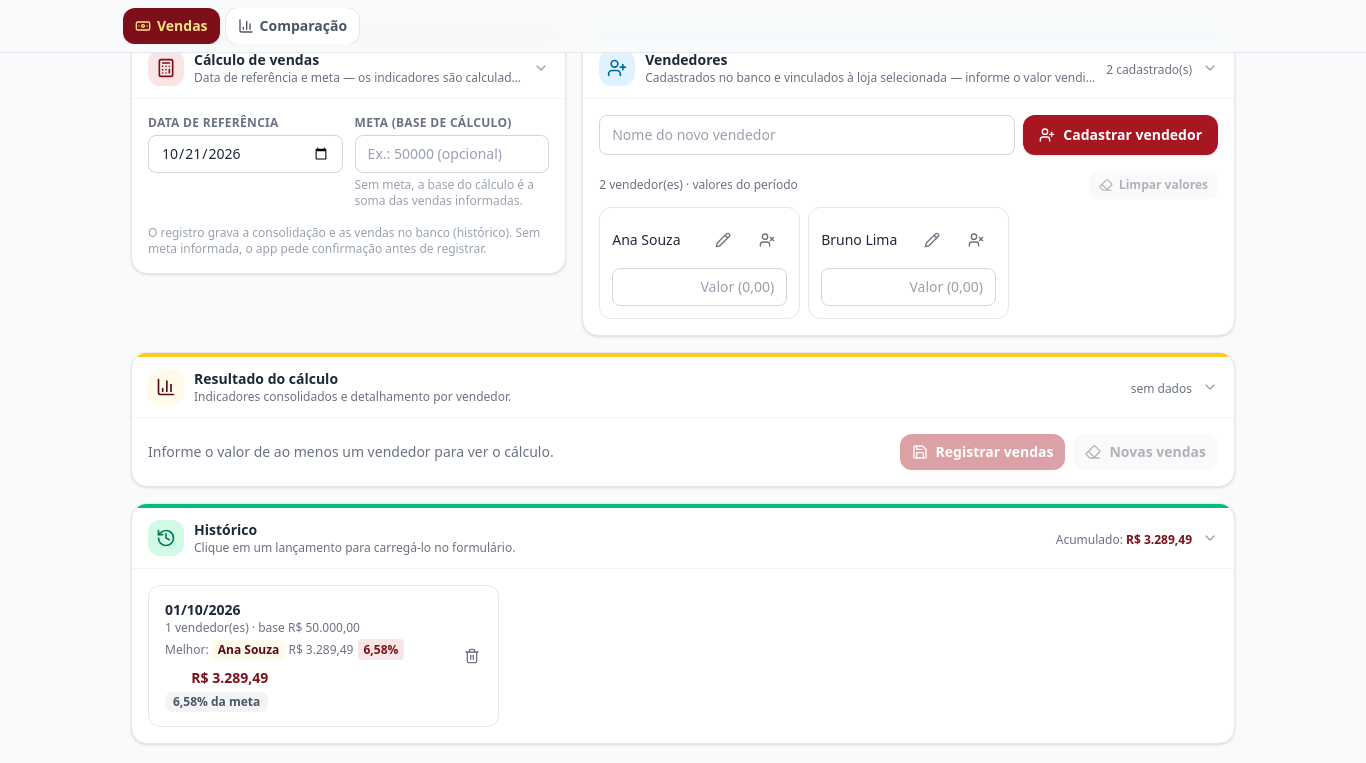
it: ManagementScreen — digitação do valor do vendedor › carrega o lançamento do histórico no formulário ao clicar nele
(page scrolled)
What coordinates should you click on to do the following:
click the button with aria-label "Carregar lançamento de 2026-10-01"
I would click on:
 (302, 656)
Its box is [153,590,450,722].
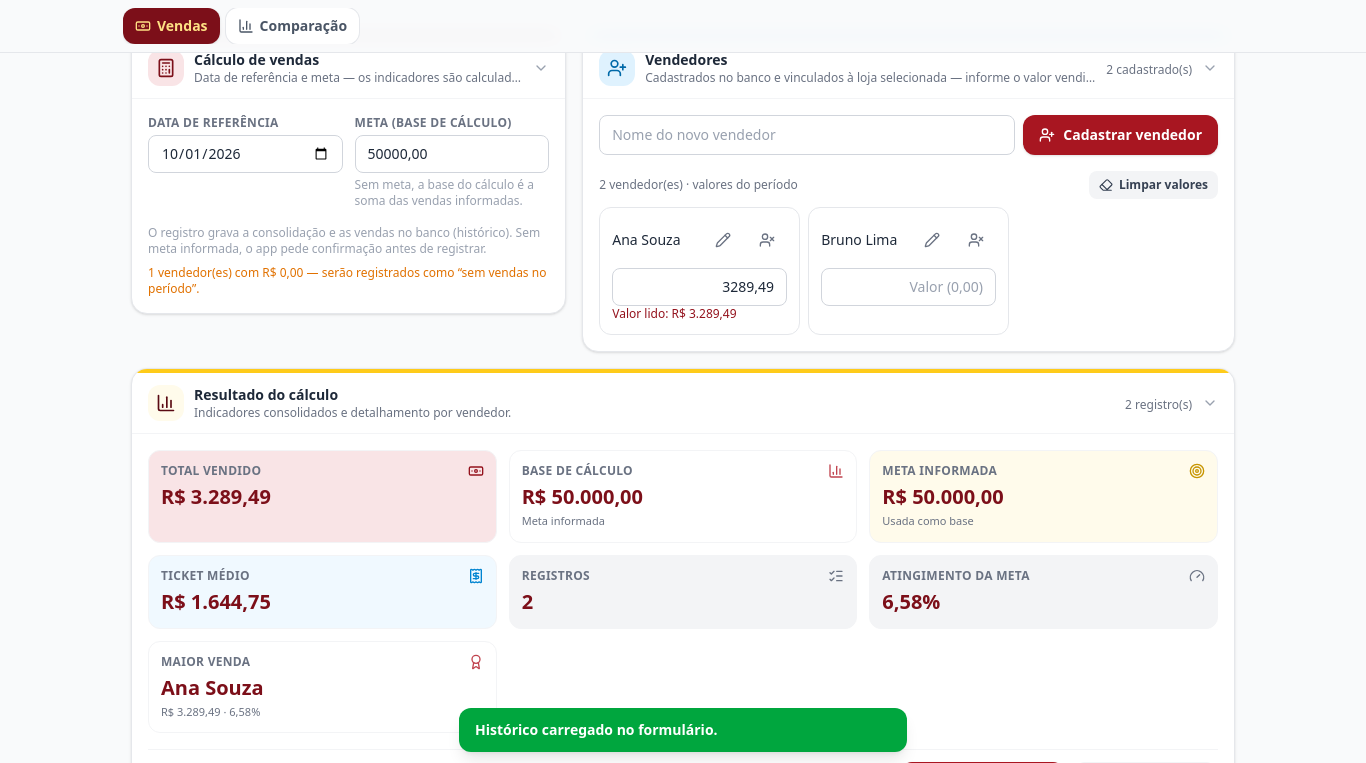
Expected: the field named "Meta de vendas" holds "50000,00", [355,135,549,173]
